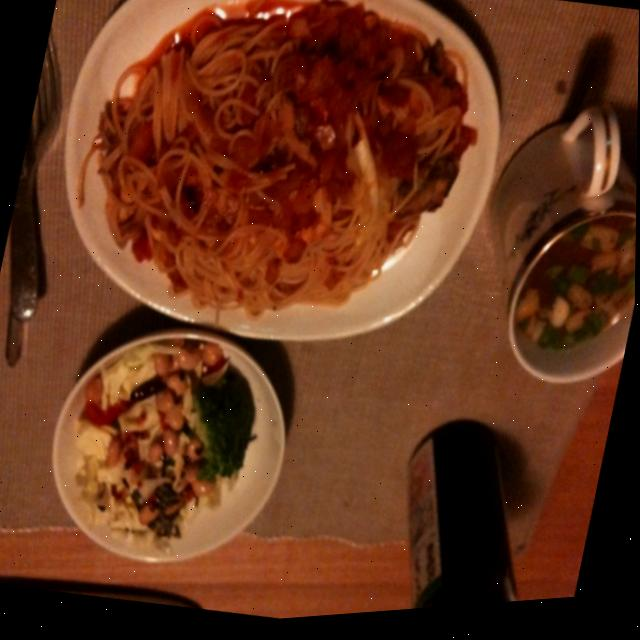蔬菜料理: (52, 325, 296, 567)
